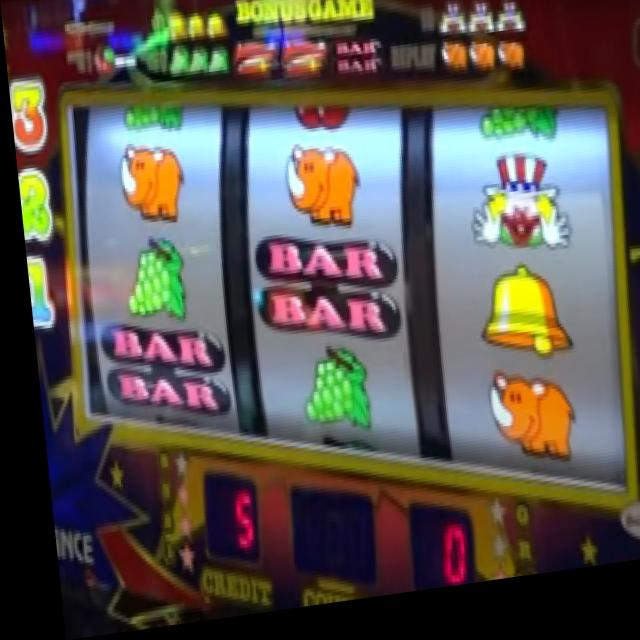bar: (246, 227, 396, 361), (91, 313, 224, 434), (460, 158, 567, 275)
display: (55, 49, 634, 565)
grape: (288, 346, 369, 446), (114, 233, 186, 332), (475, 113, 558, 163), (116, 101, 184, 144), (186, 50, 207, 80), (206, 52, 227, 82), (164, 52, 186, 80)
